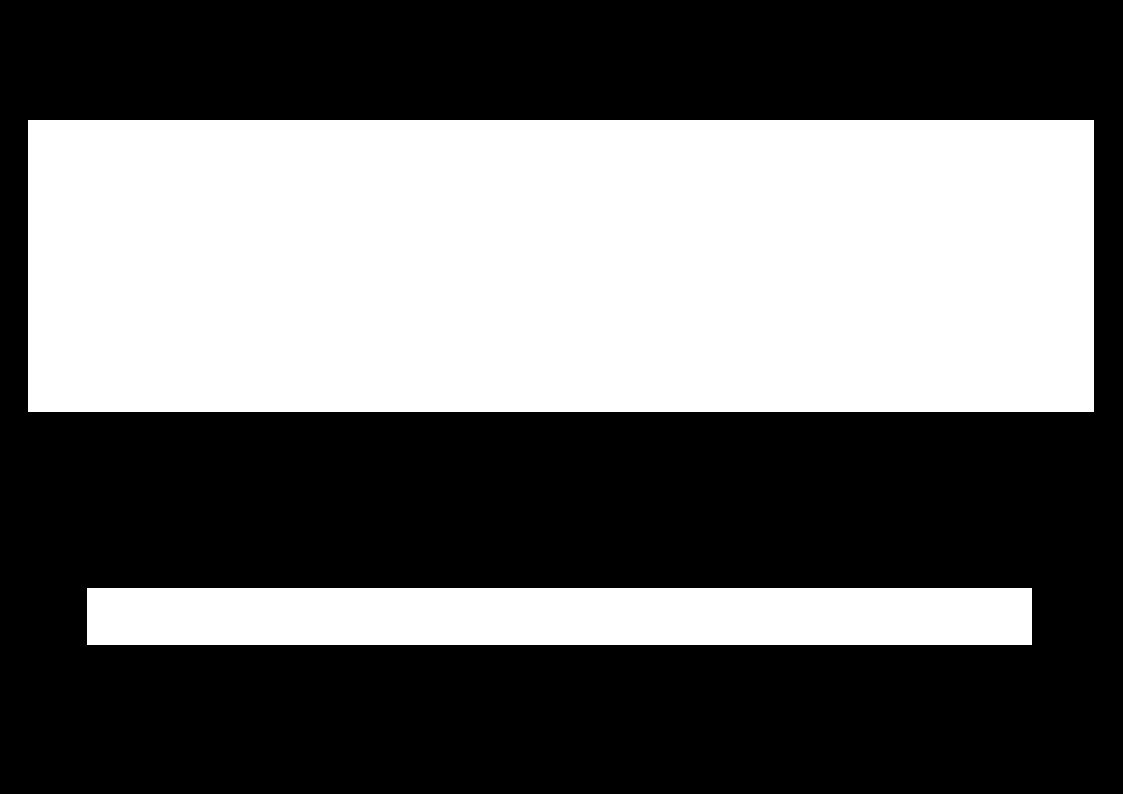table: (28, 120, 1093, 411), (87, 588, 1031, 644)
